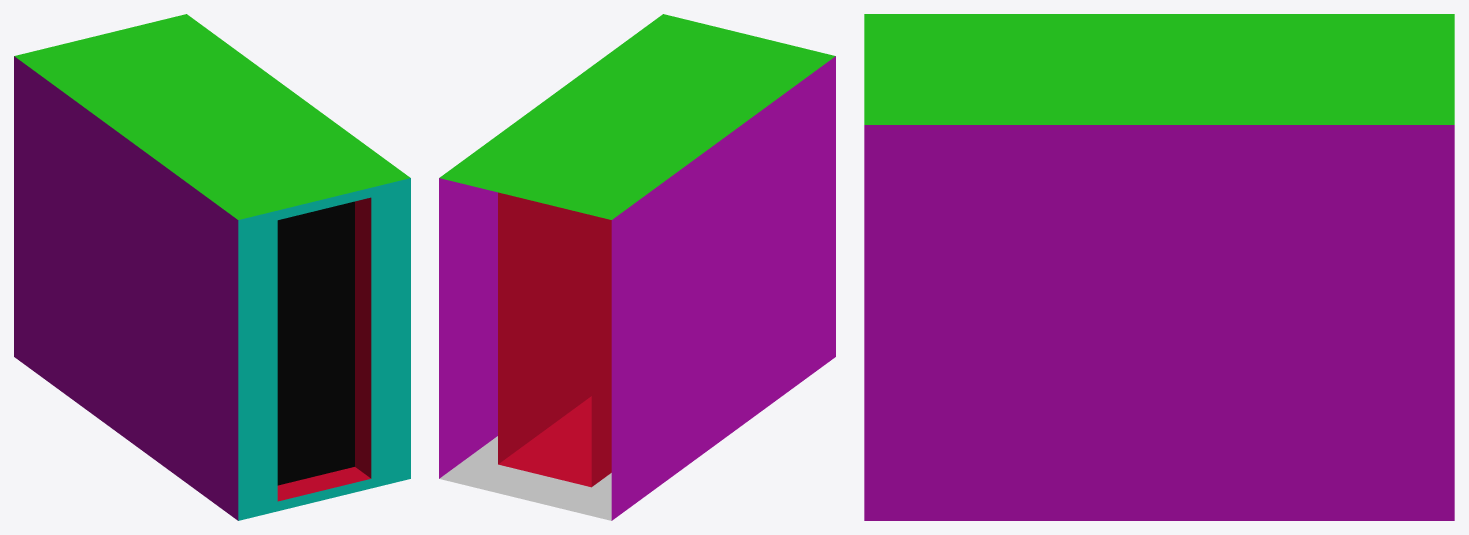
Rendered from Wheel Entrance.fbx.
3 renders of one model, left to right at view 1: azimuth 30°, elevation 25°; view 2: azimuth 150°, elevation 25°; view 3: azimuth 270°, elevation 25°, orthographic. The views are drawn at different scales.
Parts seen in each view (by area): view 1: Cube, Plane; view 2: Cube; view 3: Cube.
Part boxes in pixels (x1,y1,x2,y2): Cube: (14, 14, 410, 520); Plane: (277, 201, 354, 485); Cube: (439, 14, 835, 520); Cube: (864, 14, 1454, 520).
Size of the model in its own units: 233 by 388 by 524.
